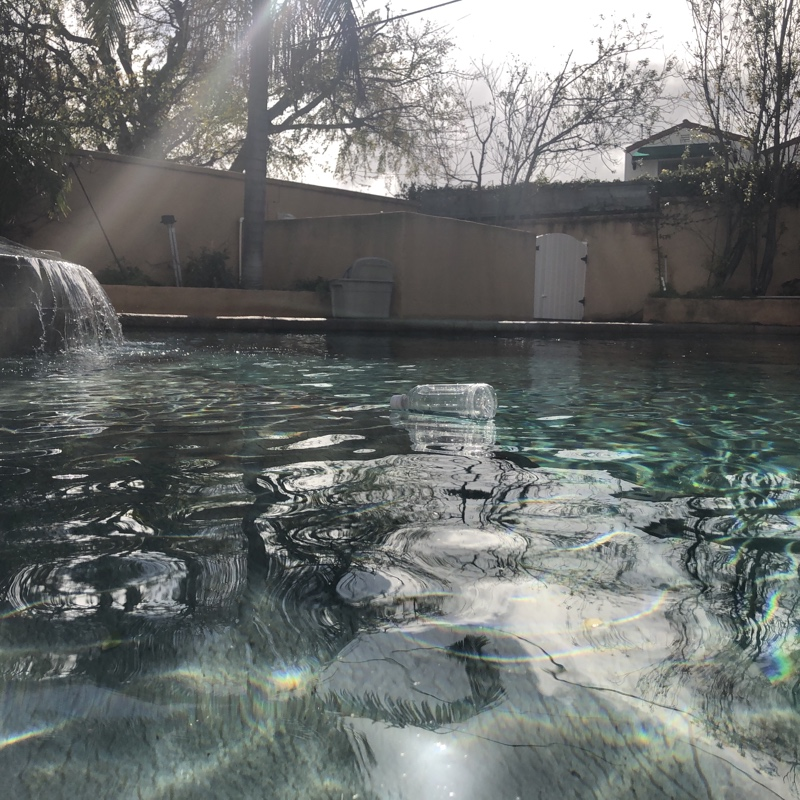Plastic Bottle: (378, 378, 499, 421)
